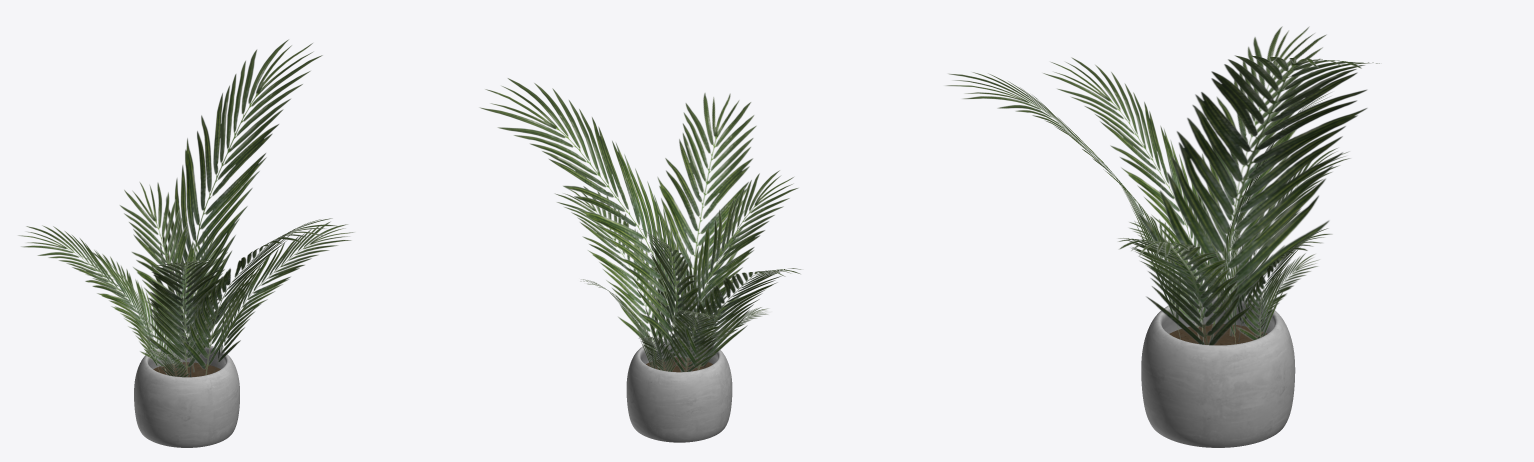
File: Plant1.glb
The picture shows the model from 3 angles, left to right: view 1: azimuth 30°, elevation 25°; view 2: azimuth 150°, elevation 25°; view 3: azimuth 270°, elevation 25°; orthographic projection. The views are drawn at different scales.
Visible parts, largest first — view 1: leaves, pot, ground; view 2: leaves, pot, ground; view 3: leaves, pot, ground.
Part boxes in pixels (box(x1,y1,x2,y2)): leaves: box(17, 39, 354, 377); pot: box(134, 343, 239, 447); ground: box(153, 362, 220, 377); leaves: box(479, 78, 802, 372); pot: box(626, 338, 732, 442); ground: box(646, 357, 712, 372); leaves: box(944, 26, 1379, 345); pot: box(1141, 296, 1295, 447); ground: box(1169, 324, 1266, 345).
Bounding box in the file's own units: 2.58 × 2.31 × 2.68.
3 materials, 3 textured.
